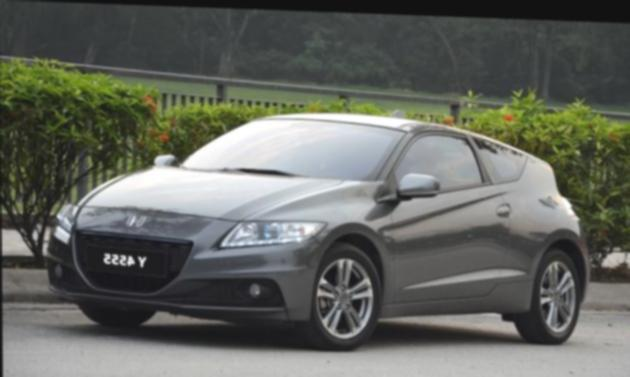License_Plate: (77, 246, 172, 278)
